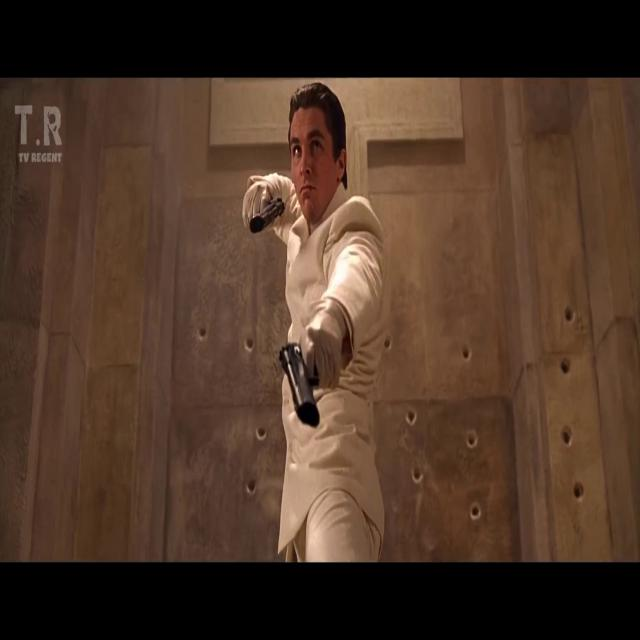handgun: (272, 332, 348, 448), (250, 178, 296, 262)
